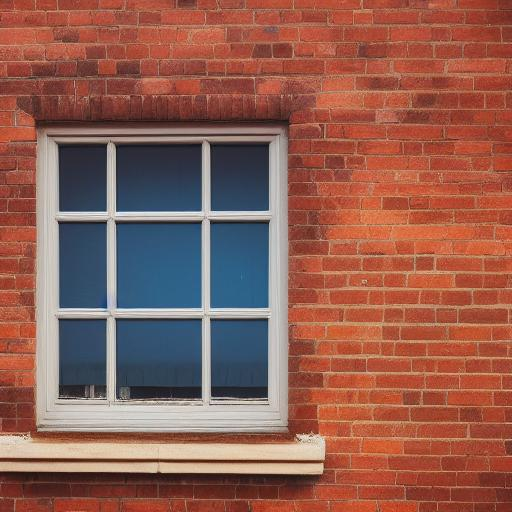Window: (1, 93, 329, 482)
